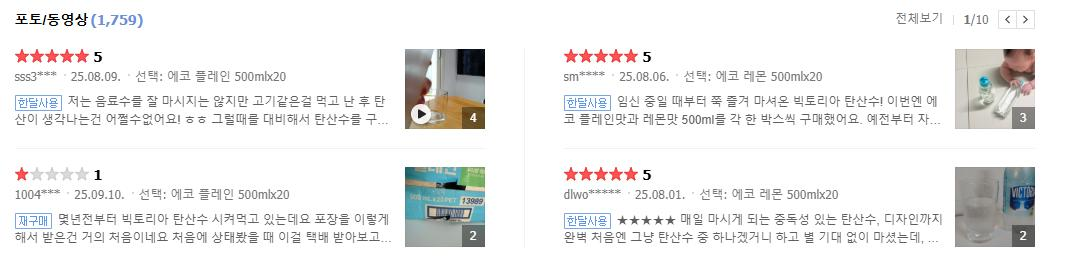button: (996, 7, 1040, 32)
